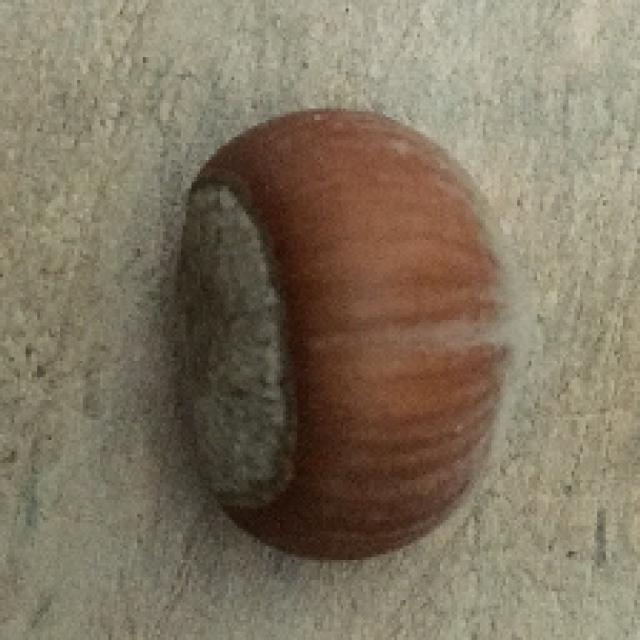qualityHazelnut: (178, 106, 536, 567)
